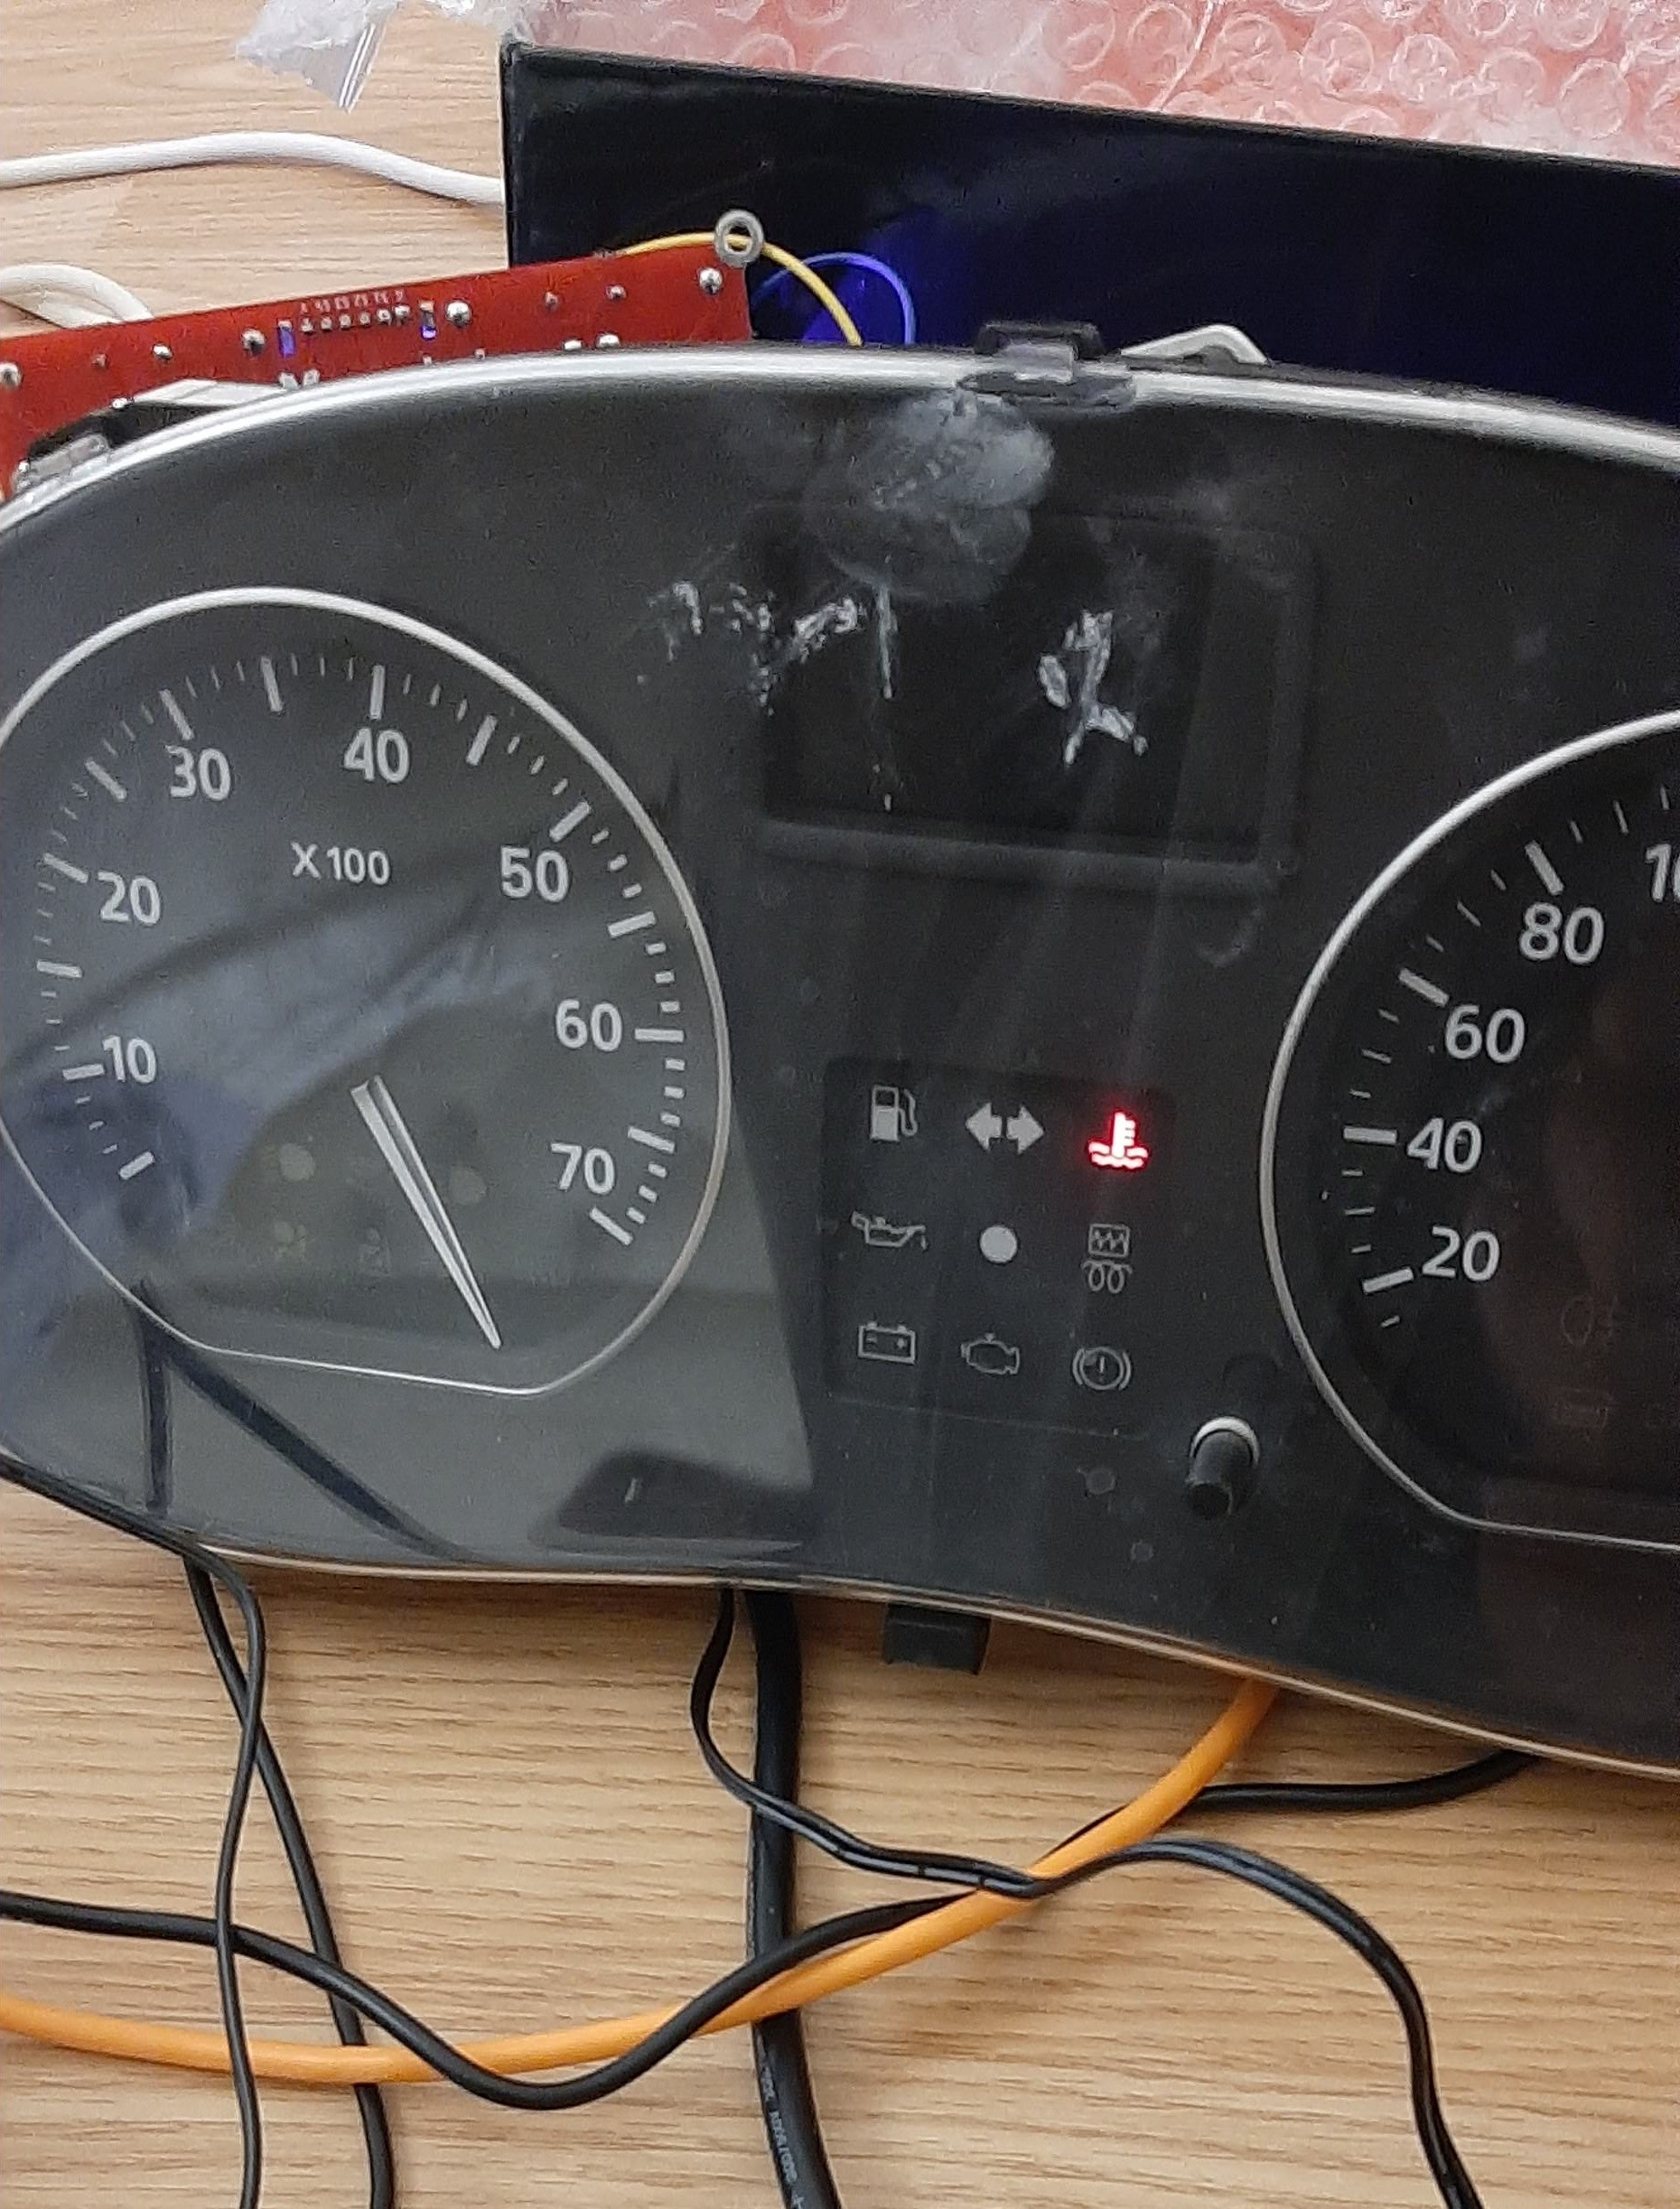Engine Overheating25: (1085, 1108, 1154, 1172)
